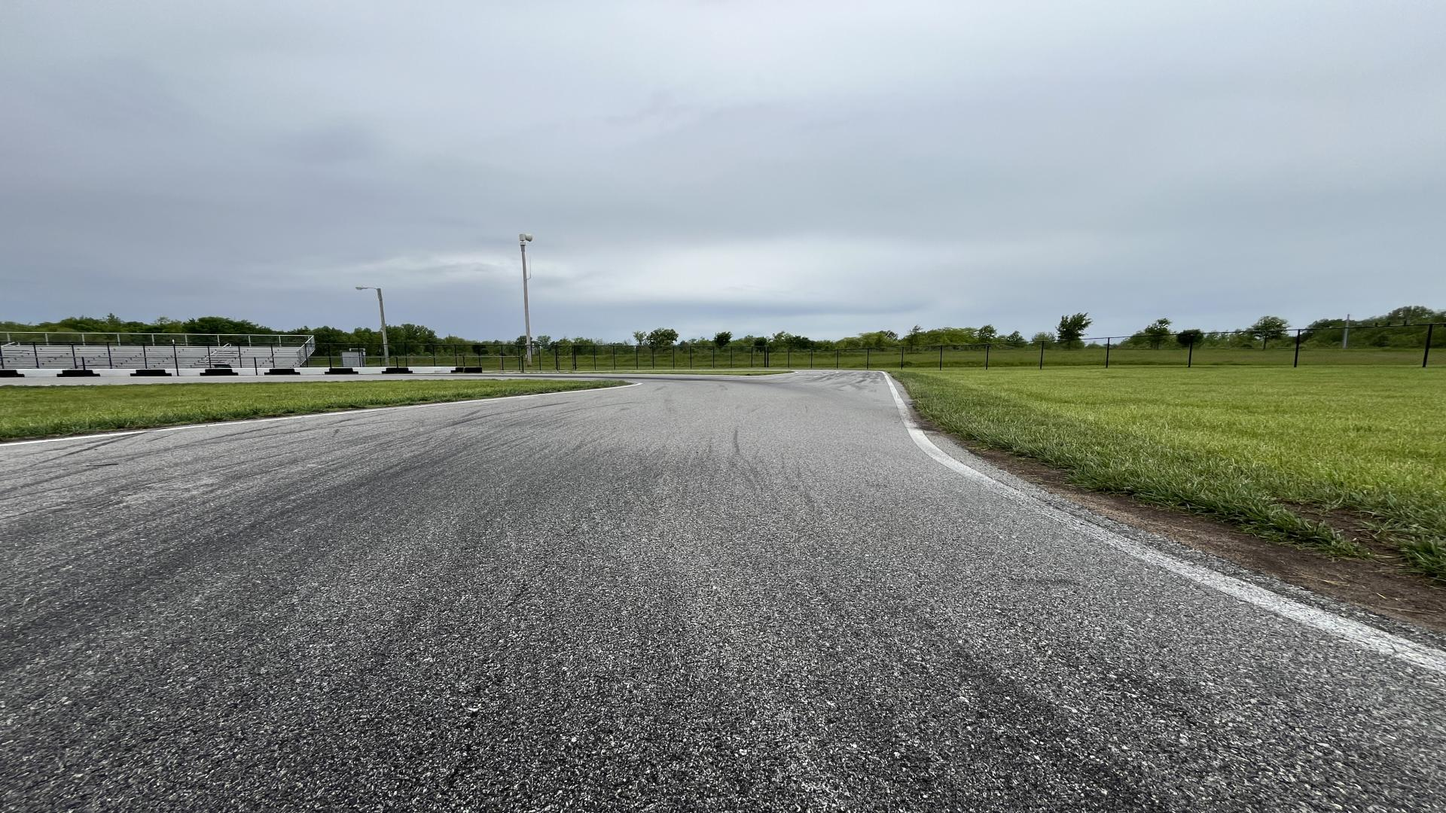white-line: (874, 371, 1445, 674), (0, 383, 642, 447), (650, 373, 793, 376), (813, 371, 838, 377)
